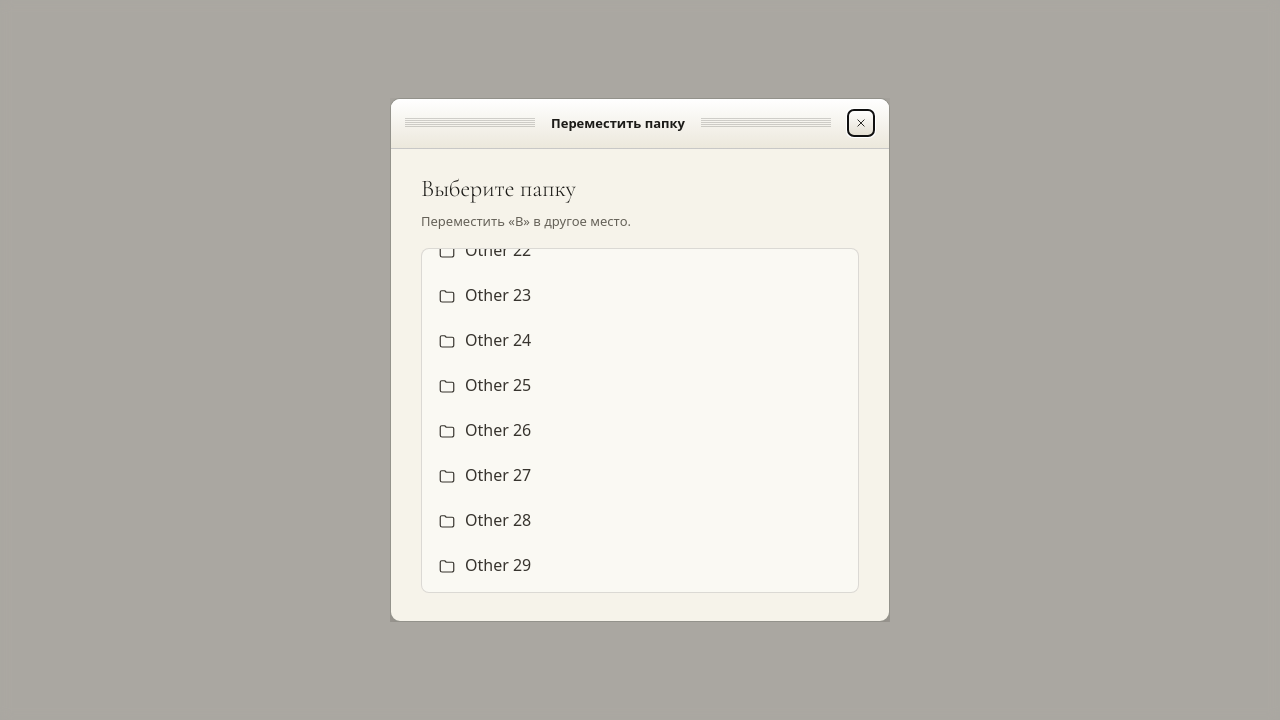
Test: excludes a moving folder and descendants and shows unambiguous destination paths
(page scrolled)
Click the button "Other 29".
click(498, 565)  # box [428,545,852,587]
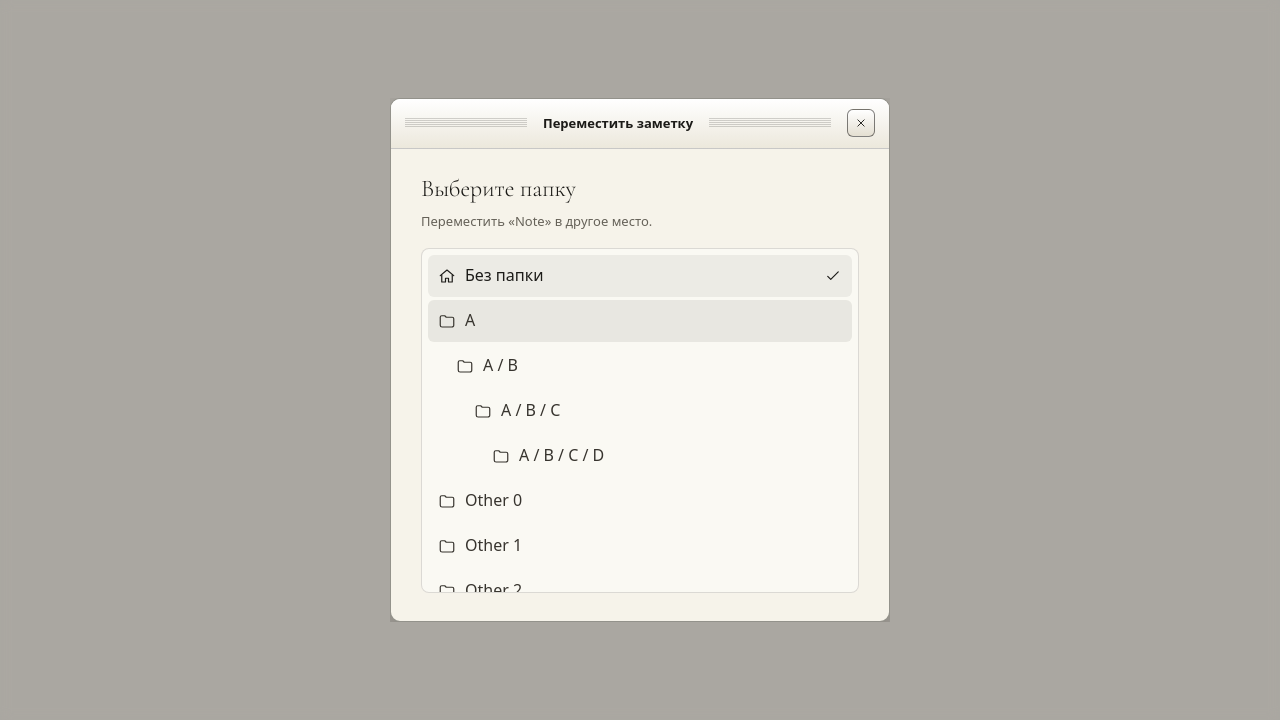
expect the text "A / B / C / D" is shown: met, box [519,444,604,466]
